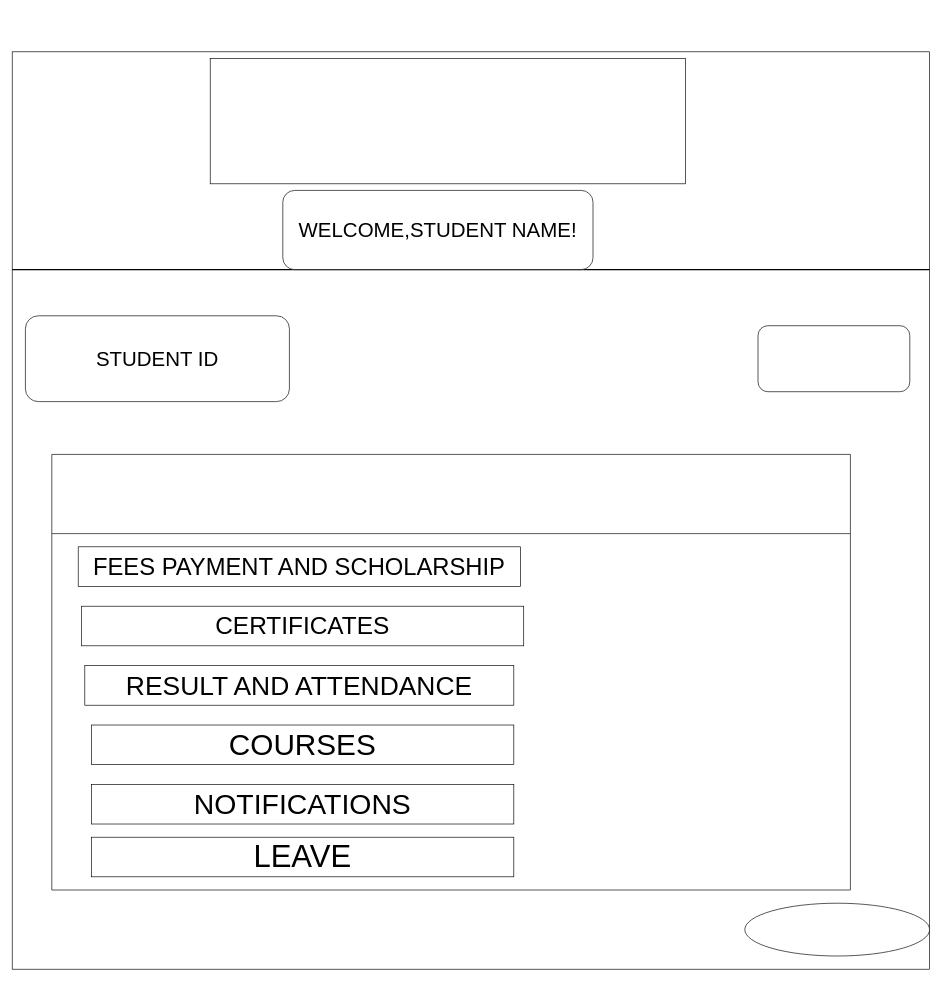
The diagram is 941 pixels wide and 981 high, and some of its shapes have lost their labels. The box of each missing label's shape, as (x1, y1, x2, y2) in pixels:
CONTACT US: (744, 903, 930, 956)
DETAILS: (51, 454, 850, 890)
PROFILE: (757, 325, 910, 392)
STUDENT DASHBOARD: (210, 58, 685, 184)
